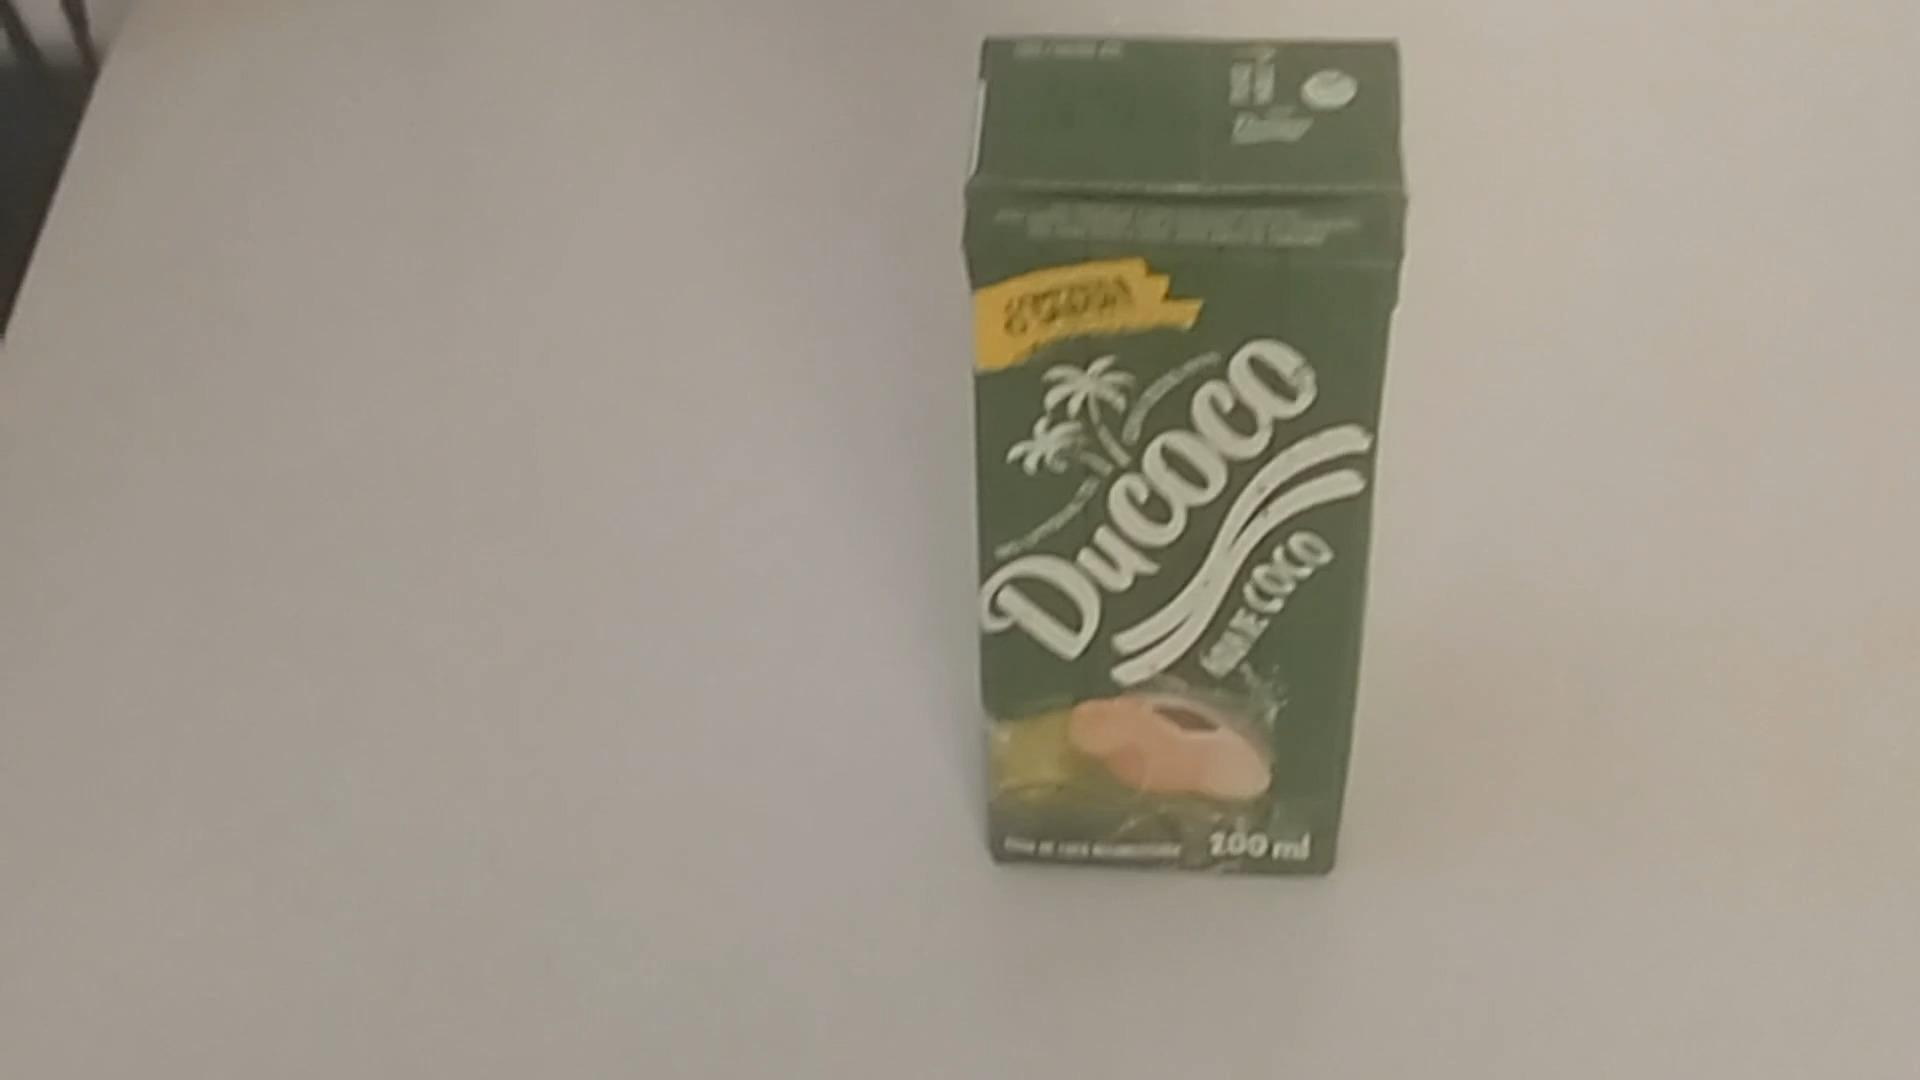coco: (964, 30, 1406, 887)
